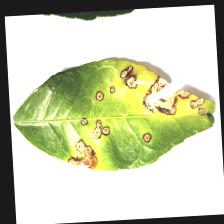canker: (59, 68, 210, 176)
